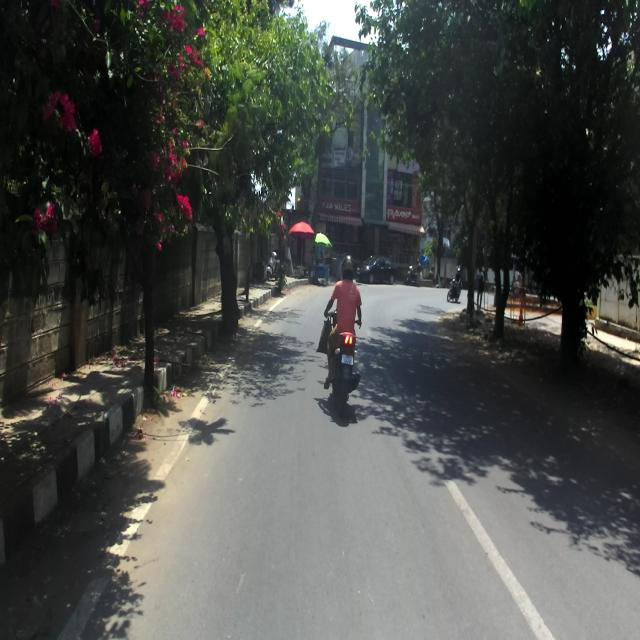motorcycle ahead at: (322, 328, 366, 414)
tree ahead at: (138, 235, 167, 418), (210, 206, 246, 334)
